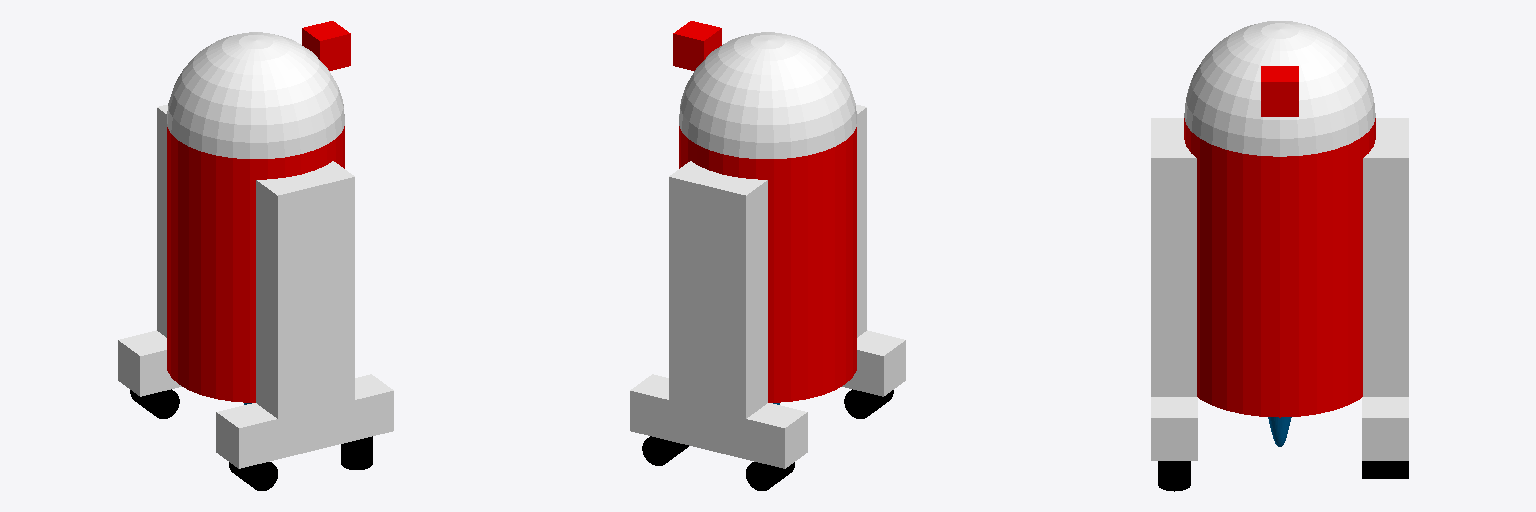
The robot description file, URDF, robot "r2d2":
<?xml version="1.0"?>
<robot name="r2d2">
    
<material name="color">
    <color rgba="1 0 0 1"/>
</material>
  
  <material name="black">
    <color rgba="0 0 0 1"/>
  </material>
  <material name="white">
    <color rgba="1 1 1 1"/>
  </material>

  <link name="robot/base_link">
    <visual>
      <geometry>
        <cylinder length="0.6" radius="0.2"/>
      </geometry>
      <material name="color"/>
    </visual>
  </link>
  
  <link name="robot/base_footprint">
  </link>
  
  <joint name="footprint" type="fixed">
      <child link="robot/base_link"/>
      <parent link="robot/base_footprint"/>
    <origin xyz="0 0 .47"/>
   </joint>
   
  <link name="robot/right_leg">
    <visual>
      <geometry>
        <box size="0.6 .1 .2"/>
      </geometry>
      <origin rpy="0 1.57075 0" xyz="0 0 -0.3"/>
      <material name="white"/>
    </visual>
  </link>

  <joint name="base_to_right_leg" type="fixed">
    <parent link="robot/base_link"/>
    <child link="robot/right_leg"/>
    <origin xyz="0 -0.22 .25"/>
  </joint>

  <link name="robot/right_base">
    <visual>
      <geometry>
        <box size="0.4 .1 .1"/>
      </geometry>
      <material name="white"/>
    </visual>
  </link>

  <joint name="right_base_joint" type="fixed">
    <parent link="robot/right_leg"/>
    <child link="robot/right_base"/>
    <origin xyz="0 0 -0.6"/>
  </joint>

  <link name="robot/right_front_wheel">
    <visual>
      <origin rpy="1.57075 0 0" xyz="0 0 0"/>
      <geometry>
        <cylinder length="0.1" radius="0.035"/>
      </geometry>
      <material name="black"/>
      <origin rpy="0 0 0" xyz="0 0 0"/>
    </visual>
  </link>
  <joint name="right_front_wheel_joint" type="fixed">
    <axis rpy="0 0 0" xyz="0 1 0"/>
    <parent link="robot/right_base"/>
    <child link="robot/right_front_wheel"/>
    <origin rpy="0 0 0" xyz="0.133333333333 0 -0.085"/>
  </joint>

  <link name="robot/right_back_wheel">
    <visual>
      <origin rpy="1.57075 0 0" xyz="0 0 0"/>
      <geometry>
        <cylinder length="0.1" radius="0.035"/>
      </geometry>
      <material name="black"/>
    </visual>
  </link>
  <joint name="right_back_wheel_joint" type="fixed">
    <axis rpy="0 0 0" xyz="0 1 0"/>
    <parent link="robot/right_base"/>
    <child link="robot/right_back_wheel"/>
    <origin rpy="0 0 0" xyz="-0.133333333333 0 -0.085"/>
  </joint>

  <link name="robot/left_leg">
    <visual>
      <geometry>
        <box size="0.6 .1 .2"/>
      </geometry>
      <origin rpy="0 1.57075 0" xyz="0 0 -0.3"/>
      <material name="white"/>
    </visual>
  </link>

  <joint name="base_to_left_leg" type="fixed">
    <parent link="robot/base_link"/>
    <child link="robot/left_leg"/>
    <origin xyz="0 0.22 .25"/>
  </joint>

  <link name="robot/left_base">
    <visual>
      <geometry>
        <box size="0.4 .1 .1"/>
      </geometry>
      <material name="white"/>
    </visual>
  </link>

  <joint name="left_base_joint" type="fixed">
    <parent link="robot/left_leg"/>
    <child link="robot/left_base"/>
    <origin xyz="0 0 -0.6"/>
  </joint>

  <link name="robot/left_front_wheel">
    <visual>
      <origin rpy="1.57075 0 0" xyz="0 0 0"/>
      <geometry>
        <cylinder length="0.1" radius="0.035"/>
      </geometry>
      <material name="black"/>
    </visual>
  </link>
  <joint name="left_front_wheel_joint" type="fixed">
    <parent link="robot/left_base"/>
    <child link="robot/left_front_wheel"/>
    <origin rpy="0 0 0" xyz="0.133333333333 0 -0.085"/>
  </joint>

  <link name="robot/left_back_wheel">
    <visual>
      <origin rpy="1.57075 0 0" xyz="0 0 0"/>
      <geometry>
        <cylinder length="0.1" radius="0.035"/>
      </geometry>
      <material name="black"/>
    </visual>
  </link>
  <joint name="left_back_wheel_joint" type="fixed">
    <axis rpy="0 0 0" xyz="0 1 0"/>
    <parent link="robot/left_base"/>
    <child link="robot/left_back_wheel"/>
    <origin rpy="0 0 0" xyz="-0.133333333333 0 -0.085"/>
  </joint>

  <link name="robot/head">
    <visual>
      <geometry>
        <sphere radius="0.2"/>
      </geometry>
      <material name="white"/>
    </visual>
  </link>
  <joint name="head_swivel" type="fixed">
    <parent link="robot/base_link"/>
    <child link="robot/head"/>
    <origin xyz="0 0 0.3"/>
  </joint>

  <link name="robot/box">
    <visual>
      <geometry>
        <box size=".08 .08 .08"/>
      </geometry>
      <material name="color"/>
    </visual>
  </link>

  <joint name="tobox" type="fixed">
    <parent link="robot/head"/>
    <child link="robot/box"/>
    <origin xyz="0.1814 0 0.1414"/>
  </joint>
  
  <link name="robot/carrot">
      <visual>
          <origin rpy="-1.57 0 0"/>
          <geometry>
              <mesh filename="package://mobro/urdf/carrot/carrot.dae" scale="0.003 0.003 0.003"/>
          </geometry>
      </visual>
  </link>
  
    <joint name="carrot_disable" type="prismatic">
    <parent link="robot/base_footprint"/>
    <child link="robot/carrot_disable"/>
    <axis xyz="0 0 1"/>
    <limit lower="-100" upper="100" velocity="10" effort="-1"/>
  </joint>   
  
  <joint name="carrot" type="prismatic">
    <parent link="robot/carrot_disable"/>
    <child link="robot/carrot"/>
    <origin xyz="0 0 0"/>
    <axis xyz="1 0 0"/>
    <limit lower="-100" upper="100" velocity="10" effort="-1"/>
  </joint>
  
  
  <link name="robot/carrot_disable"/>
  
  
</robot>

--- What the picture shows (computed from the rendered views, not written in the file) ---
3 views of the same robot in one strip: view 1: azimuth 30°, elevation 25°; view 2: azimuth 150°, elevation 25°; view 3: azimuth 270°, elevation 25° (orthographic).
Robot: r2d2 — 14 links, 13 joints (2 prismatic, 11 fixed); root link robot/base_footprint; default pose: all joints at 0.
Links seen in each view (by area): view 1: robot/right_leg, robot/base_link, robot/head, robot/right_base, robot/left_base, robot/left_leg, robot/box, robot/right_front_wheel, robot/left_back_wheel, robot/right_back_wheel; view 2: robot/base_link, robot/left_leg, robot/head, robot/left_base, robot/right_base, robot/right_leg, robot/box, robot/right_back_wheel, robot/left_back_wheel, robot/left_front_wheel; view 3: robot/base_link, robot/head, robot/right_leg, robot/left_leg, robot/right_base, robot/left_base, robot/box, robot/right_front_wheel, robot/left_front_wheel.
Link boxes in pixels (x1=…): robot/right_leg: x1=256, y1=161, x2=354, y2=438; robot/base_link: x1=167, y1=126, x2=344, y2=402; robot/head: x1=167, y1=32, x2=344, y2=158; robot/right_base: x1=216, y1=374, x2=393, y2=468; robot/left_base: x1=118, y1=330, x2=181, y2=396; robot/left_leg: x1=157, y1=105, x2=167, y2=337; robot/box: x1=302, y1=21, x2=350, y2=70; robot/right_front_wheel: x1=341, y1=436, x2=372, y2=469; robot/left_back_wheel: x1=130, y1=389, x2=179, y2=418; robot/right_back_wheel: x1=229, y1=462, x2=277, y2=490; robot/base_link: x1=679, y1=126, x2=856, y2=402; robot/left_leg: x1=669, y1=161, x2=767, y2=434; robot/head: x1=679, y1=32, x2=856, y2=158; robot/left_base: x1=630, y1=374, x2=807, y2=468; robot/right_base: x1=842, y1=330, x2=905, y2=396; robot/right_leg: x1=856, y1=105, x2=866, y2=337; robot/box: x1=673, y1=21, x2=721, y2=70; robot/right_back_wheel: x1=844, y1=389, x2=893, y2=418; robot/left_back_wheel: x1=746, y1=462, x2=794, y2=490; robot/left_front_wheel: x1=642, y1=436, x2=688, y2=465; robot/base_link: x1=1184, y1=118, x2=1375, y2=417; robot/head: x1=1184, y1=21, x2=1375, y2=156; robot/right_leg: x1=1151, y1=118, x2=1196, y2=396; robot/left_leg: x1=1363, y1=118, x2=1408, y2=396; robot/right_base: x1=1151, y1=397, x2=1197, y2=460; robot/left_base: x1=1362, y1=397, x2=1408, y2=460; robot/box: x1=1261, y1=66, x2=1298, y2=116; robot/right_front_wheel: x1=1158, y1=461, x2=1190, y2=491; robot/left_front_wheel: x1=1362, y1=461, x2=1408, y2=478.
Bounding box of the posed robot: 0.4214 × 0.54 × 0.985 m (x, y, z).
Meshes: 1 distinct files referenced, 1 mesh visuals loaded (1 Collada DAE).